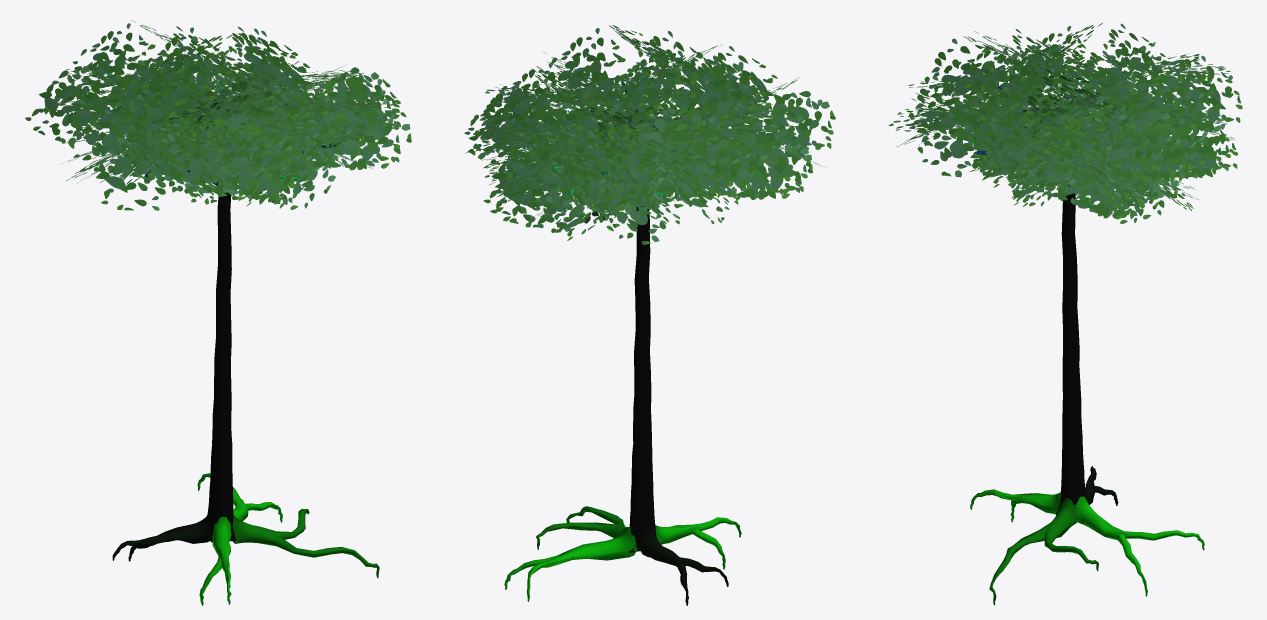
The model's file is Tree4.fbx.
3 views of the same model, side by side, from view 1: azimuth 30°, elevation 25°; view 2: azimuth 150°, elevation 25°; view 3: azimuth 270°, elevation 25° (orthographic). The views are drawn at different scales.
Parts seen in each view (by area): view 1: Tree4; view 2: Tree4; view 3: Tree4.
Part boxes in pixels (left/top/right/bottom): Tree4: left=25, top=20, right=411, bottom=605; Tree4: left=464, top=25, right=835, bottom=605; Tree4: left=889, top=23, right=1242, bottom=605.
Bounding box in the file's own units: 831 × 1153 × 811.
